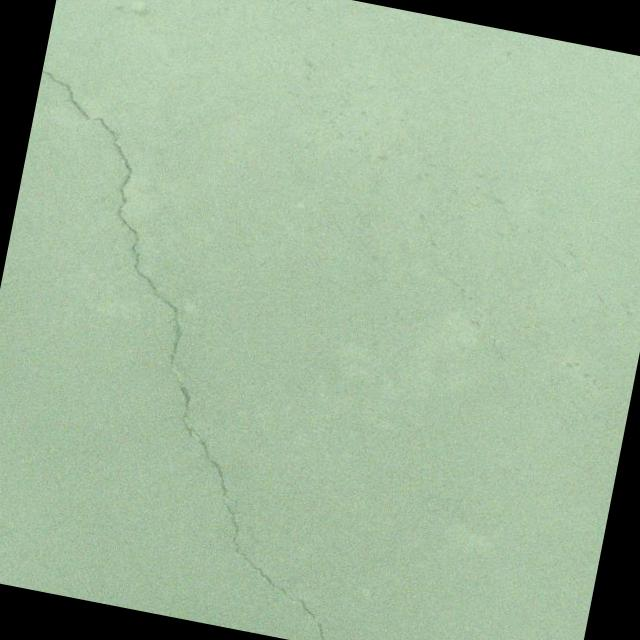crack: (0, 71, 227, 368), (199, 501, 352, 640), (158, 384, 258, 508)
